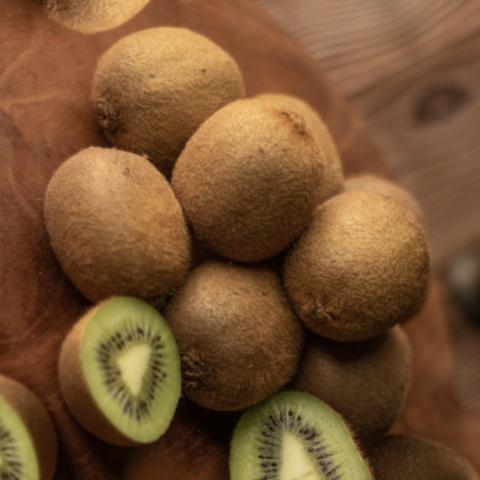kiwi: (14, 106, 227, 352), (150, 69, 368, 298), (127, 230, 338, 452), (261, 161, 471, 375), (55, 0, 269, 197)
